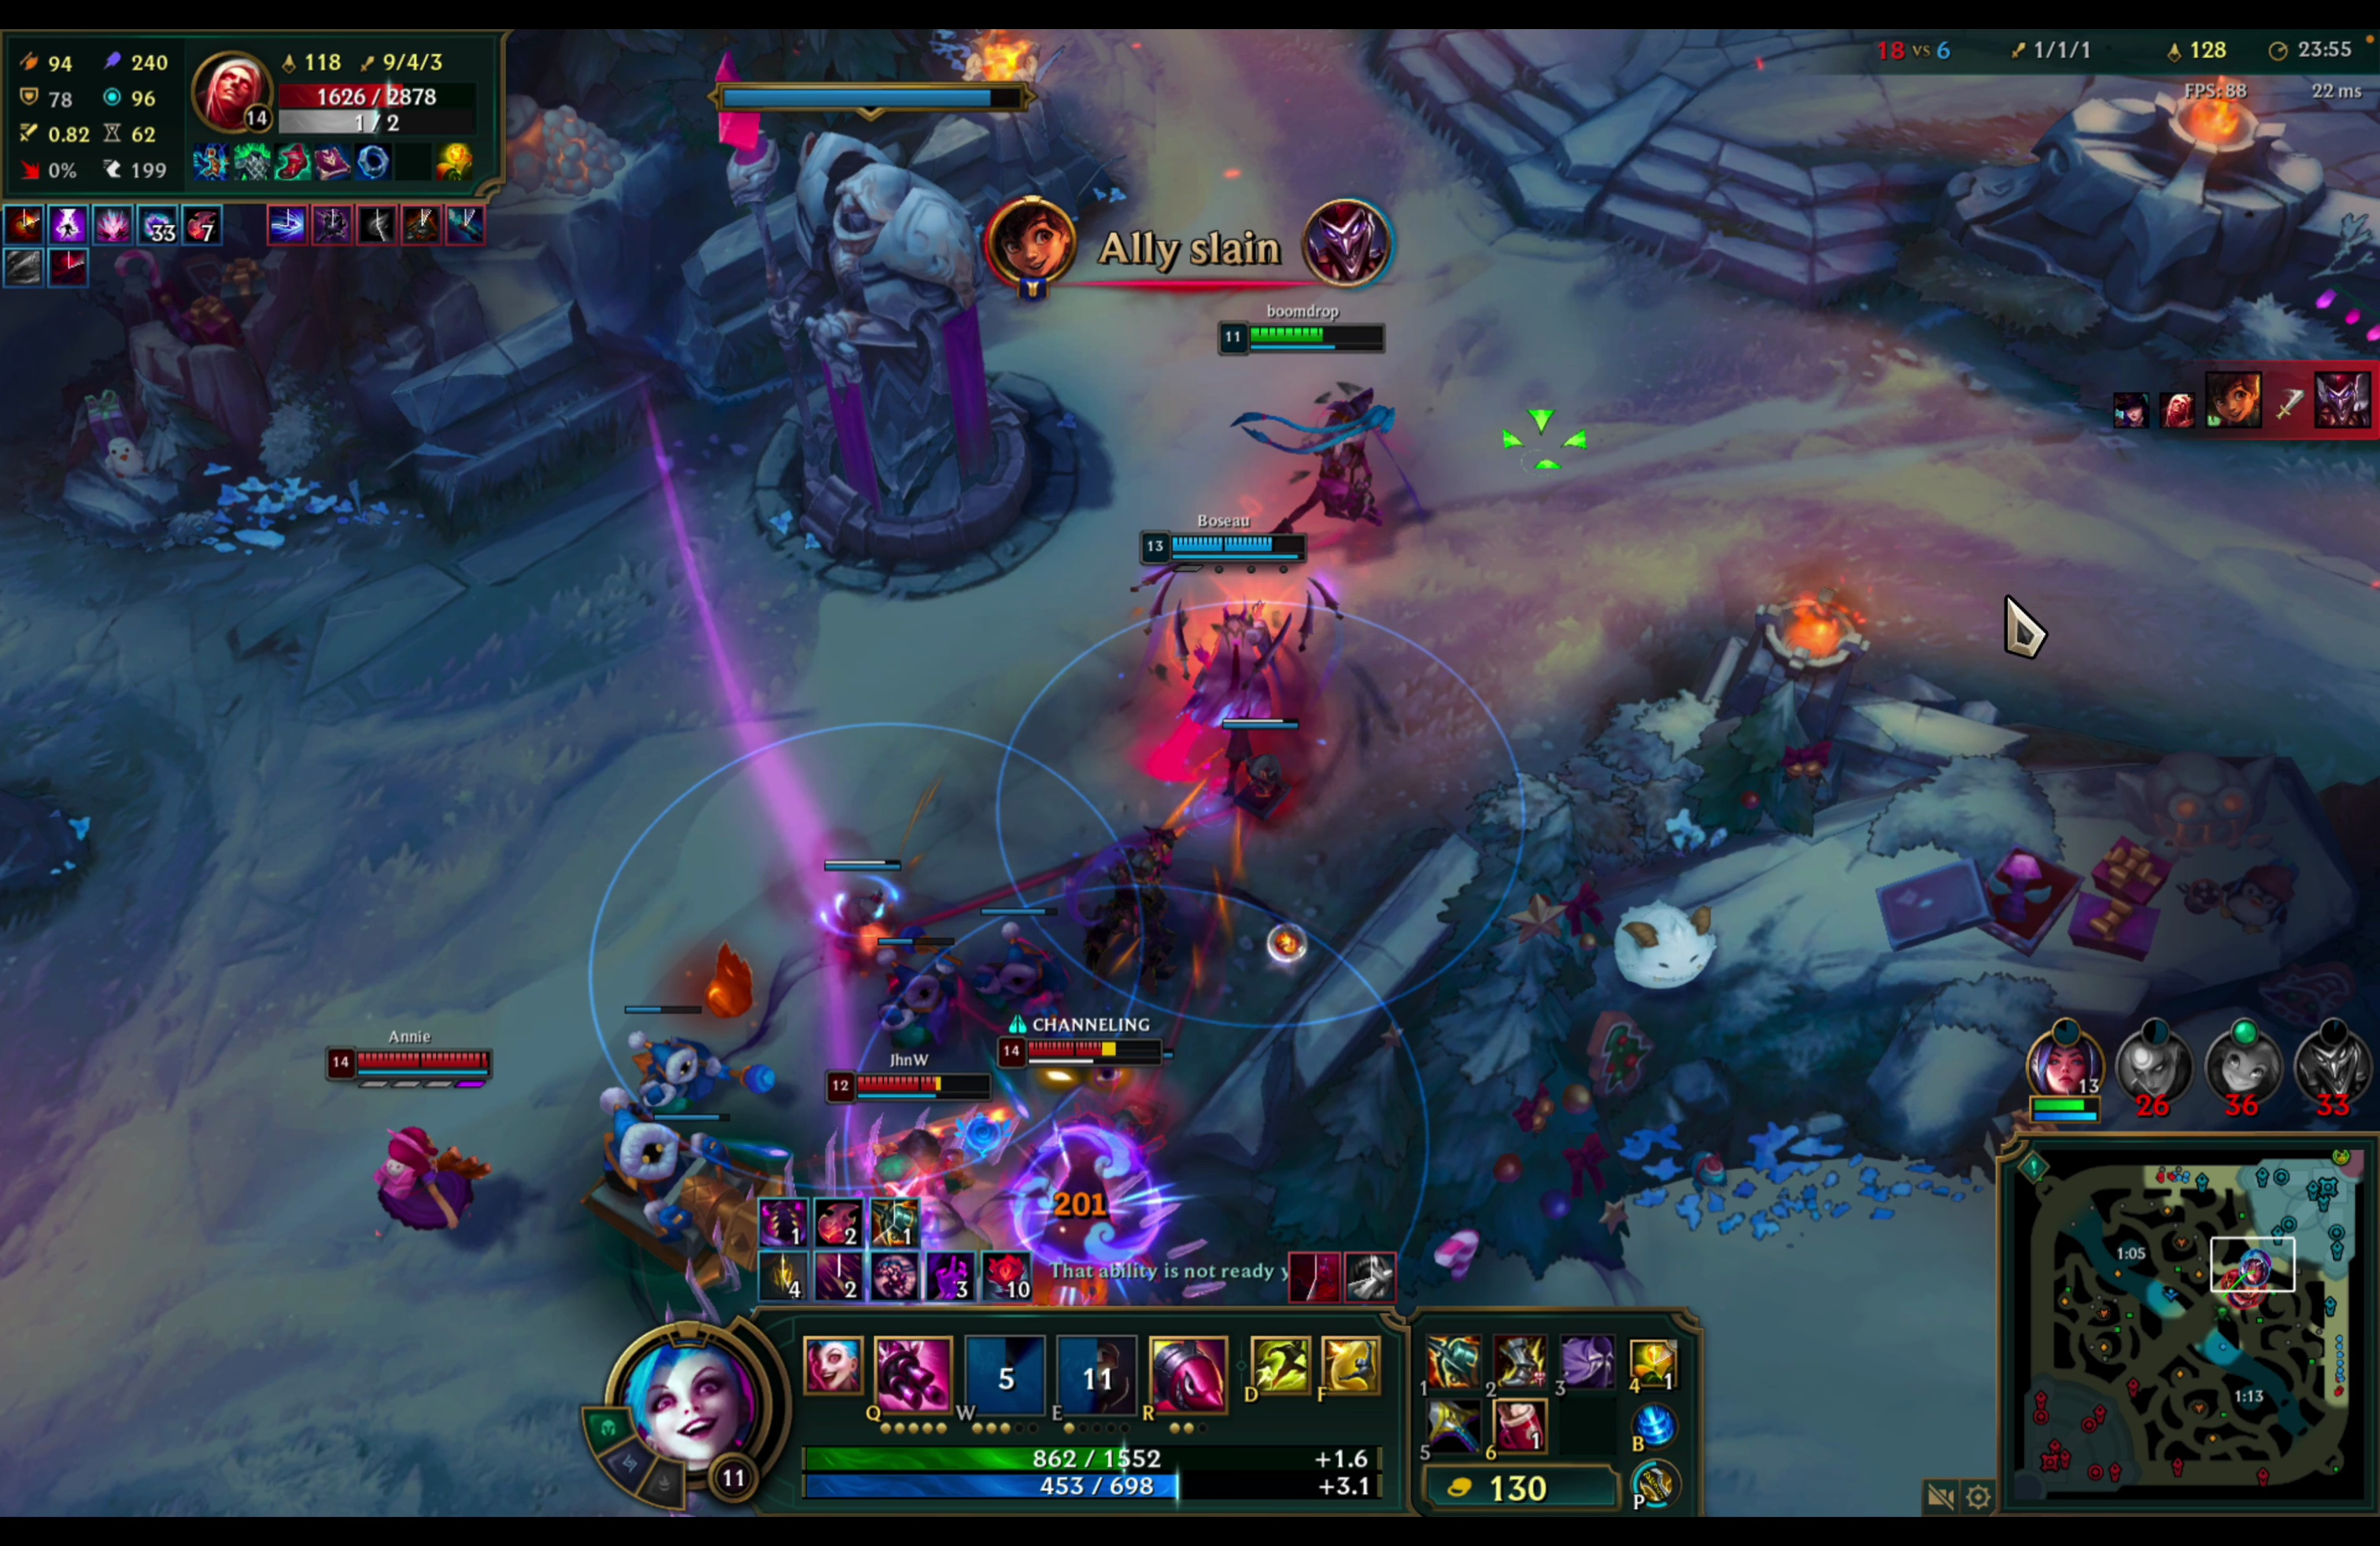JINX_W_IMPACT: (1020, 1008, 1226, 1293)
